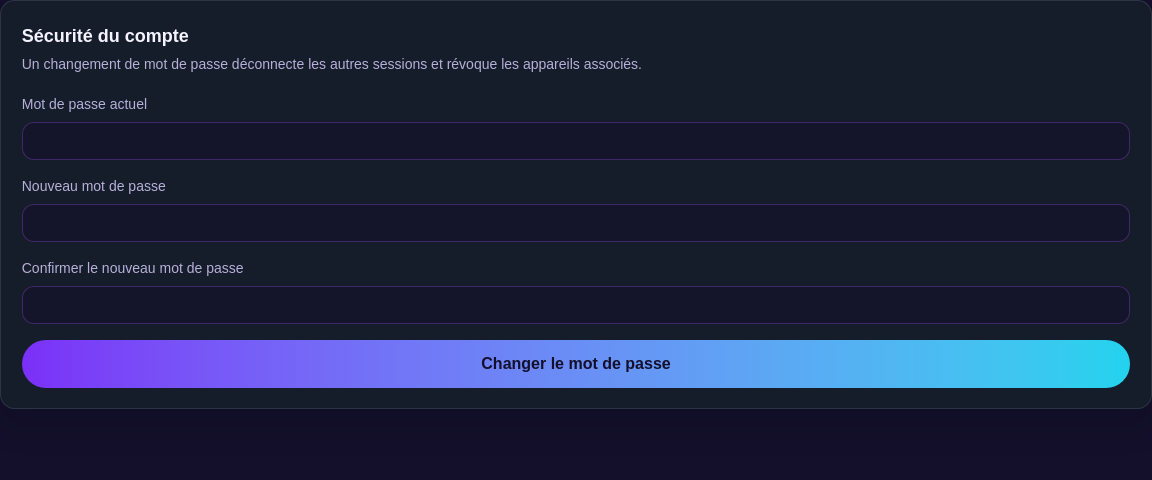
Test: ChangerMotDePasse › refuse une confirmation différente sans appel réseau
Type "NouveauMotDePasse2" into the password field labelled "Nouveau mot de passe" at coordinates (576, 223), box [22,204,1130,242]
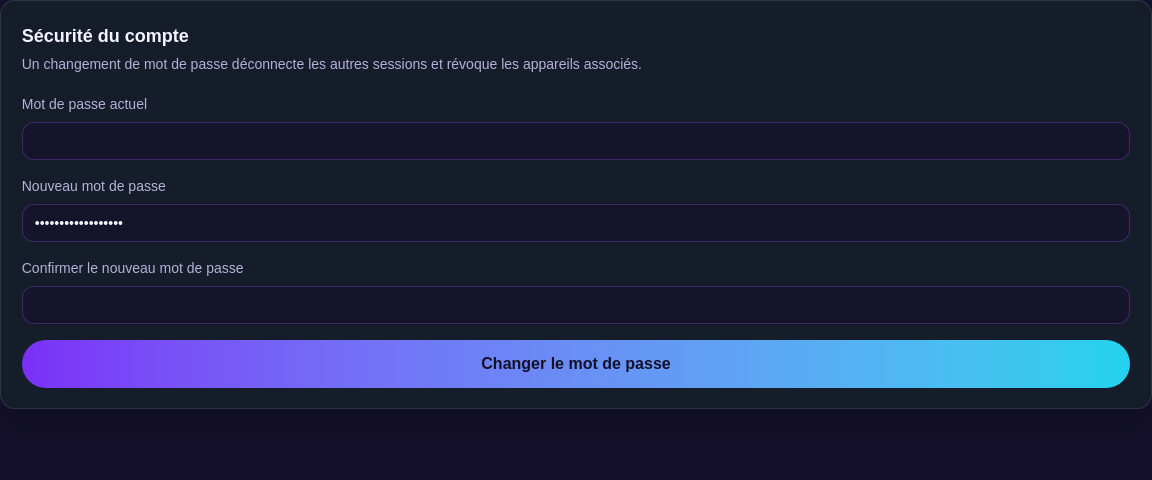
Type "AutreMotDePasse3" into the password field labelled "Confirmer le nouveau mot de passe" at coordinates (576, 305), box [22,286,1130,324]
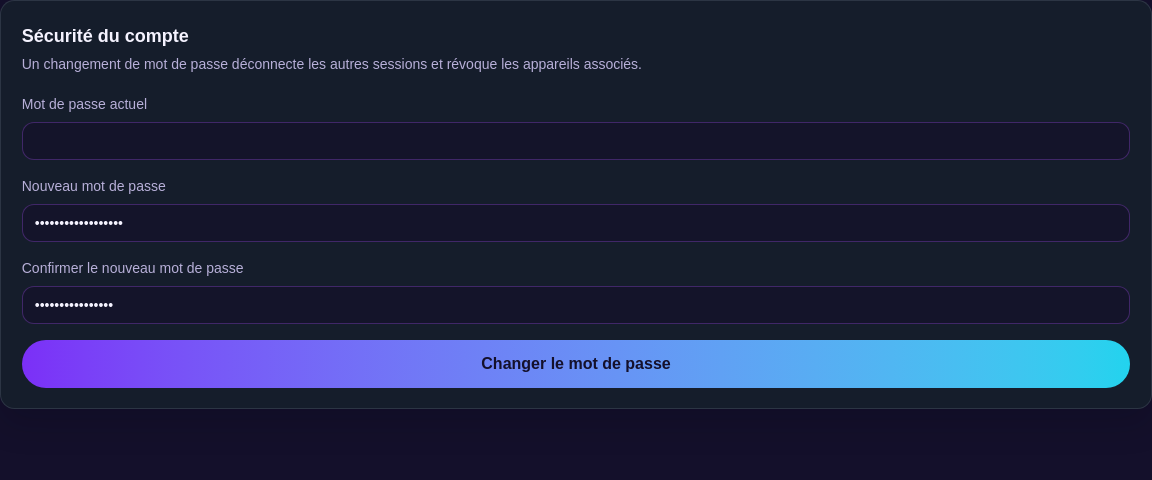
Submit the form from the button "Changer le mot de passe", box [22,340,1130,388]
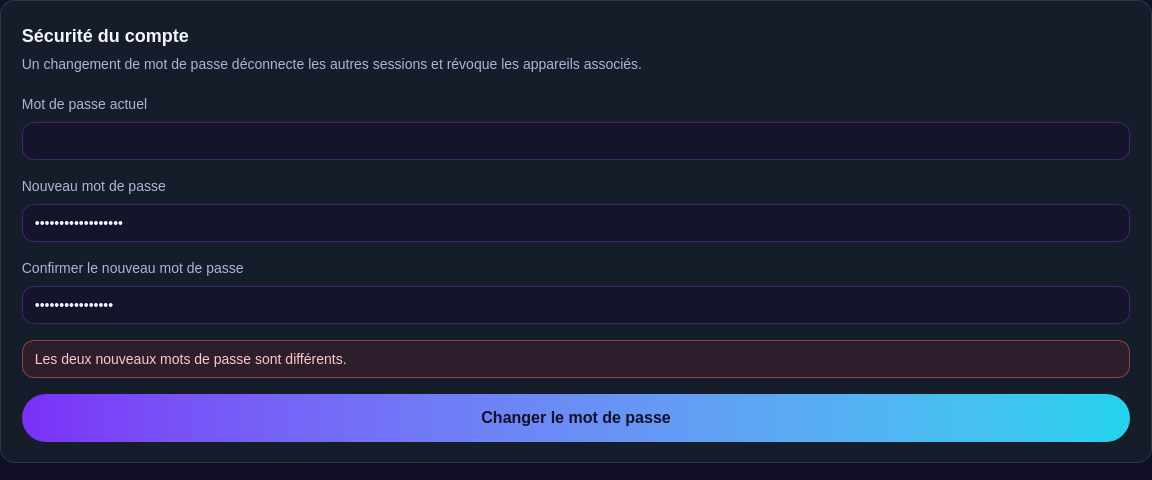
expect the message shows "différents": met, box [35,351,346,367]
